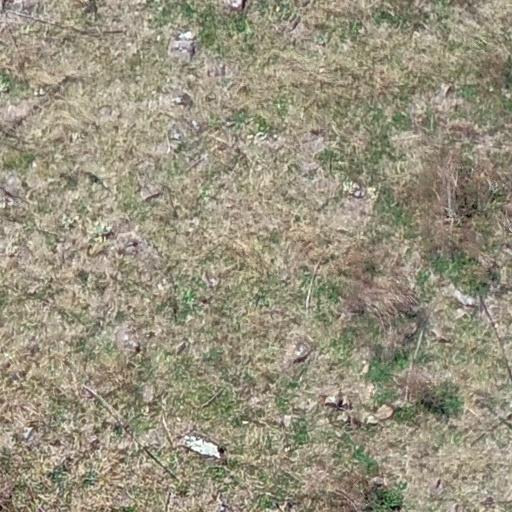stone: (326, 391, 342, 407), (376, 406, 394, 420), (340, 396, 356, 406), (337, 413, 350, 421)
